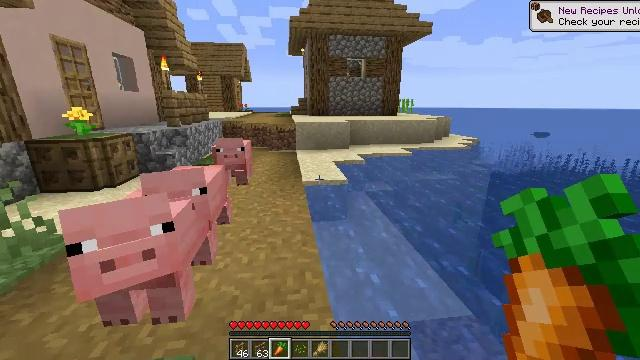pig: (63, 195, 206, 332), (145, 166, 230, 220), (214, 137, 251, 184)
